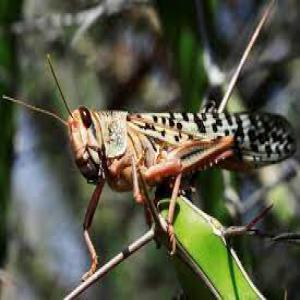locust: (52, 88, 300, 191)
